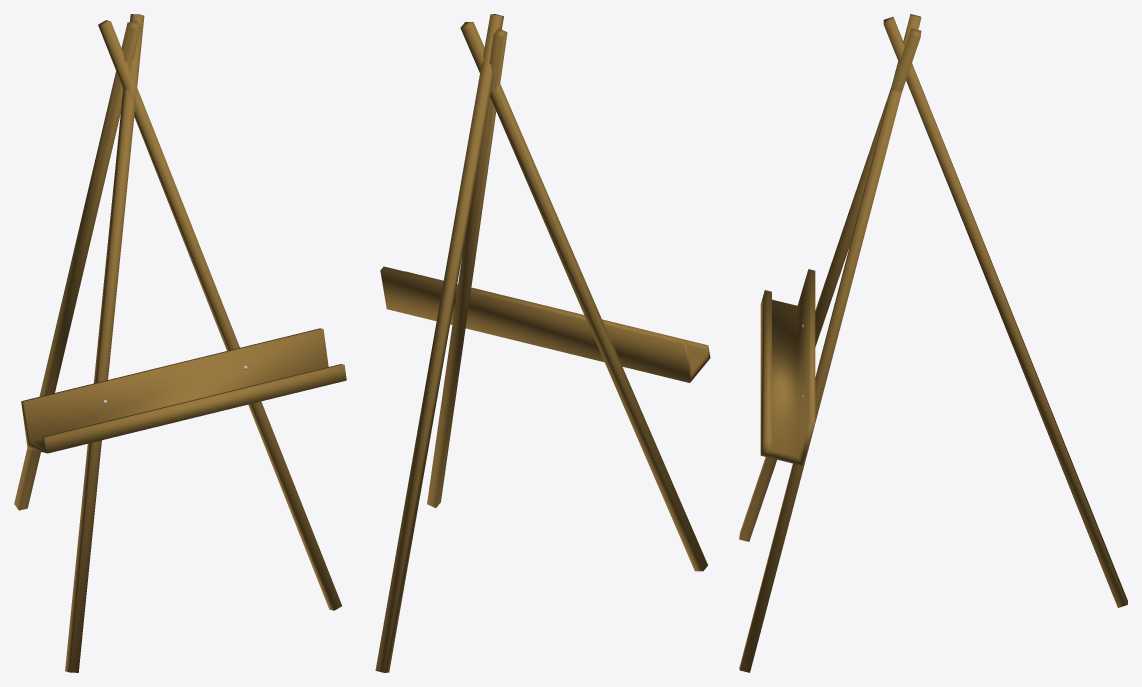
Rendered from easel.glb.
3 renders of one model, left to right at view 1: azimuth 30°, elevation 25°; view 2: azimuth 150°, elevation 25°; view 3: azimuth 270°, elevation 25°, orthographic. The views are drawn at different scales.
Parts seen in each view (by area): view 1: in; view 2: in; view 3: in.
Part boxes in pixels (left/top/right/bottom): in: left=14, top=14, right=346, bottom=672; in: left=375, top=14, right=710, bottom=672; in: left=739, top=14, right=1127, bottom=672.
Bounding box in the file's own units: 11.14 × 20.23 × 12.12.
